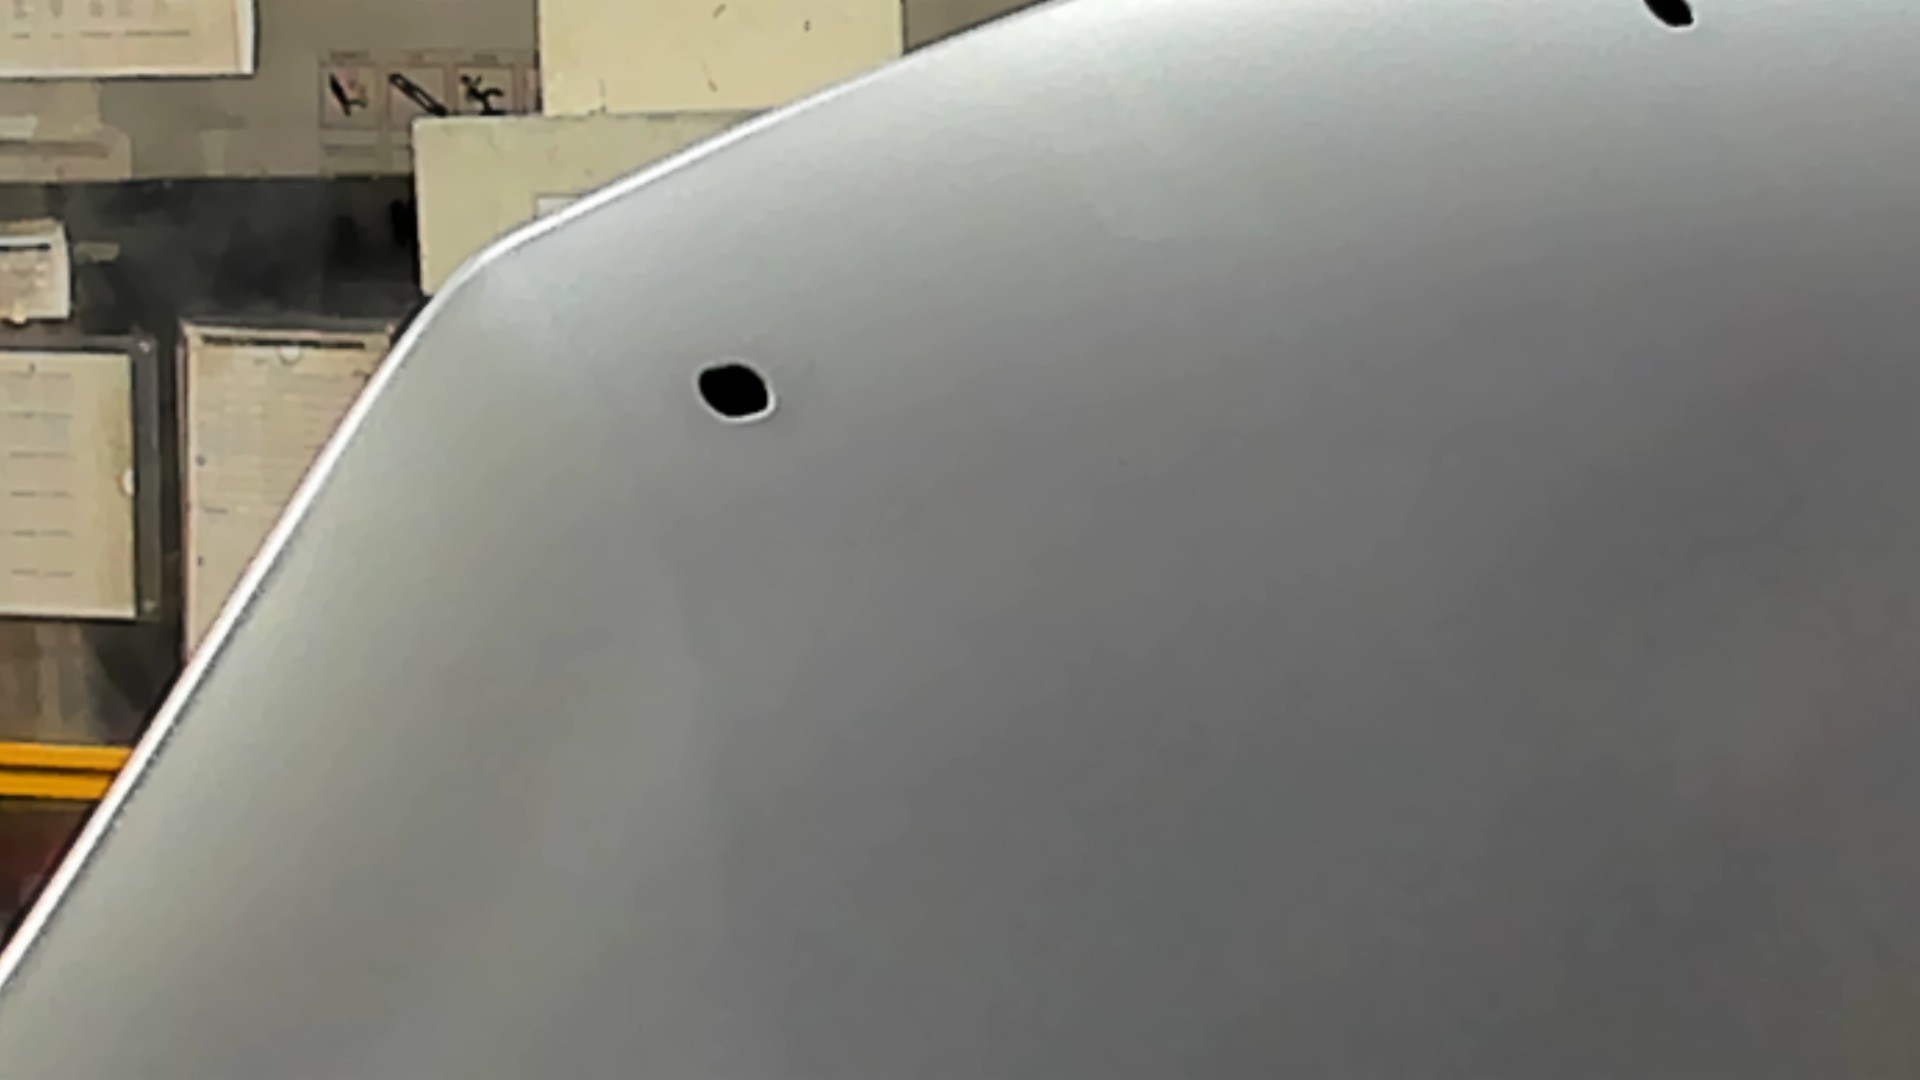amorfo: (688, 349, 787, 438), (1634, 1, 1706, 36)
